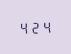four: (18, 20, 28, 34), (41, 19, 51, 33)
two: (30, 20, 40, 33)
